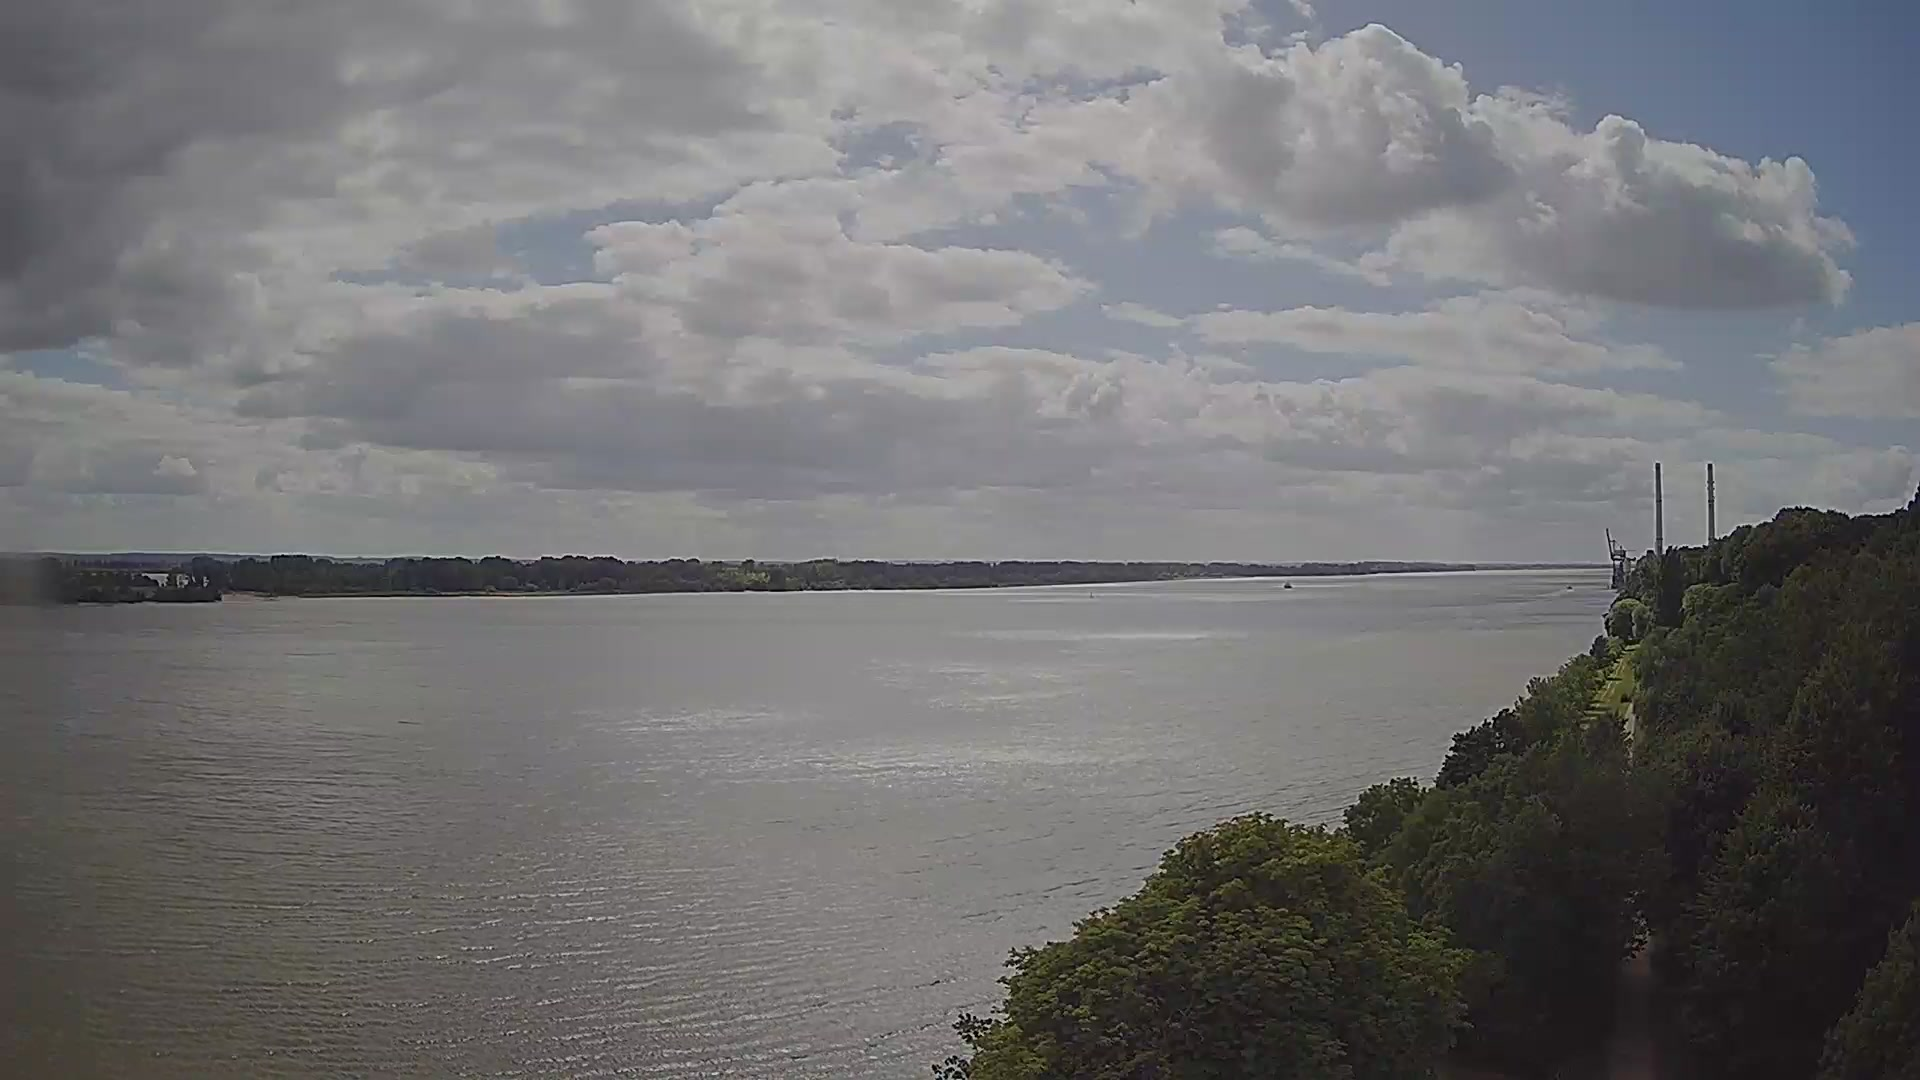sea: (1282, 580, 1292, 589), (1565, 584, 1573, 589)
